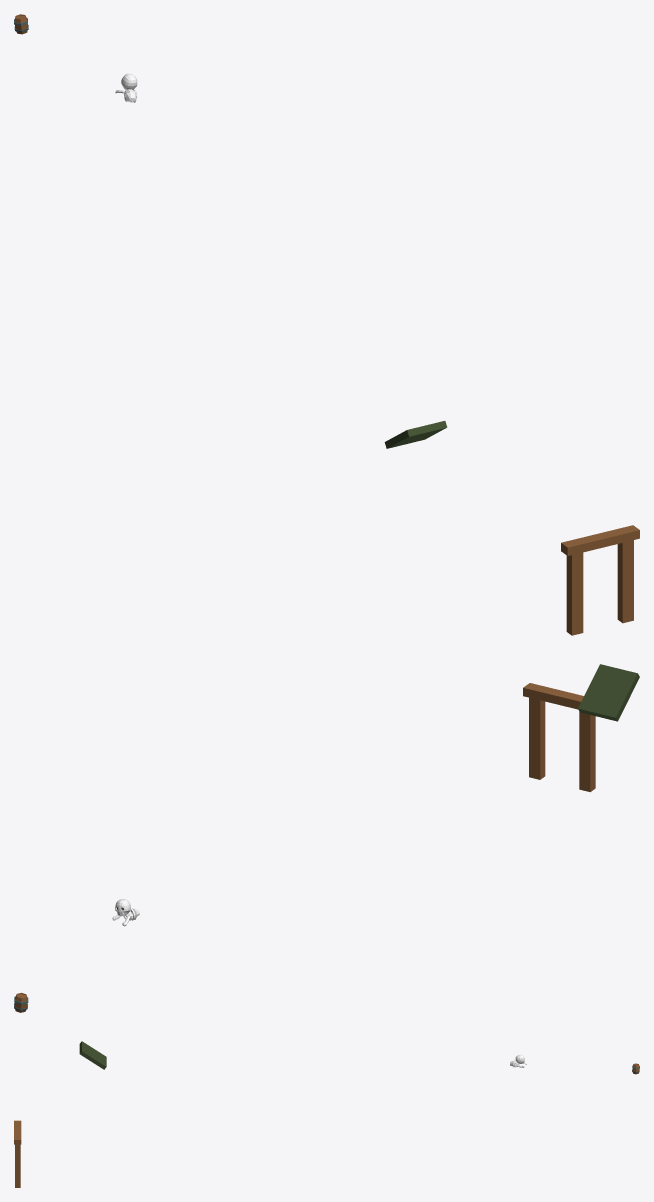
3 renders of one model, top to bottom at view 1: azimuth 30°, elevation 25°; view 2: azimuth 150°, elevation 25°; view 3: azimuth 270°, elevation 25°, orthographic. The views are drawn at different scales.
Parts seen in each view (by area): view 1: Box15877_brown_0; view 2: Box15877_brown_0, Object204_roof1_0; view 3: Box15877_brown_0, Object204_roof1_0.
Boxes of the visible parts, bbox=[...] form: Box15877_brown_0: bbox=[561, 525, 639, 635]; Box15877_brown_0: bbox=[523, 683, 595, 792]; Object204_roof1_0: bbox=[578, 664, 639, 721]; Box15877_brown_0: bbox=[14, 1120, 21, 1187]; Object204_roof1_0: bbox=[79, 1041, 106, 1069].
Size of the model in its own units: 768 by 944 by 4435.
